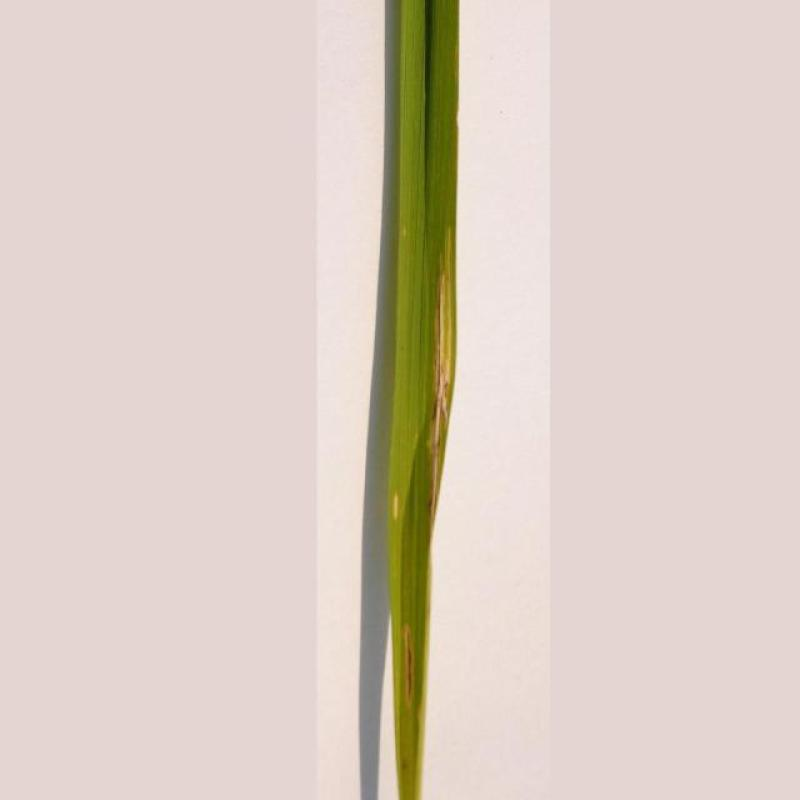Bacterial_Leaf_Blight: (408, 250, 477, 515), (395, 604, 433, 746)
